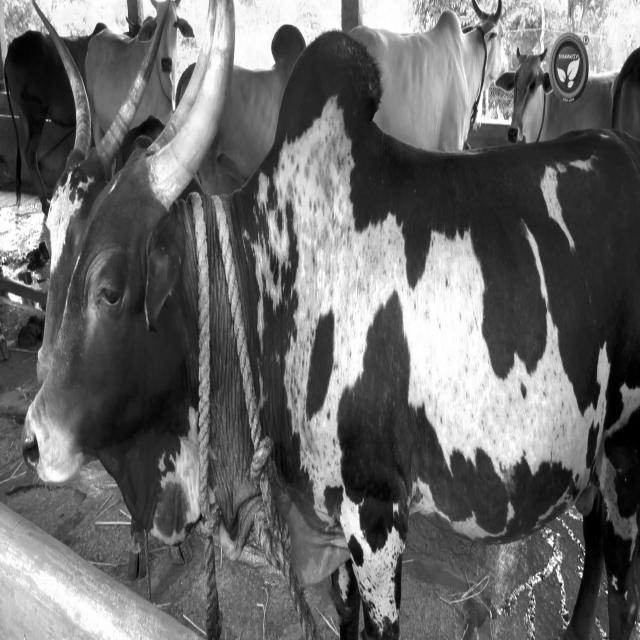Cow: (20, 2, 638, 636)
